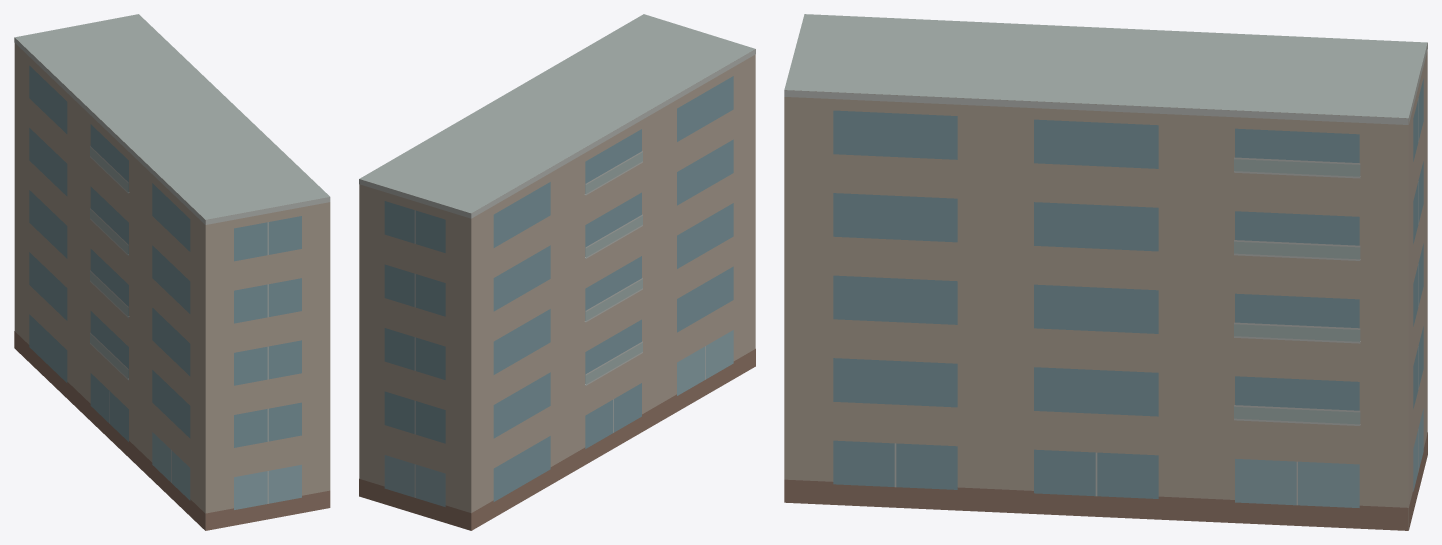
File: survey-upis-32567062.glb
The picture shows the model from 3 angles, left to right: view 1: azimuth 30°, elevation 25°; view 2: azimuth 150°, elevation 25°; view 3: azimuth 270°, elevation 25°; orthographic projection. The views are drawn at different scales.
Parts seen in each view (by area): view 1: survey-upis-32567062.tmp; view 2: survey-upis-32567062.tmp; view 3: survey-upis-32567062.tmp.
Part boxes in pixels (x1,y1,x2,y2): survey-upis-32567062.tmp: [14, 14, 330, 530]; survey-upis-32567062.tmp: [359, 14, 755, 530]; survey-upis-32567062.tmp: [784, 14, 1427, 530].
Bounding box in the file's own units: 7.97 × 14.7 × 20.78.
